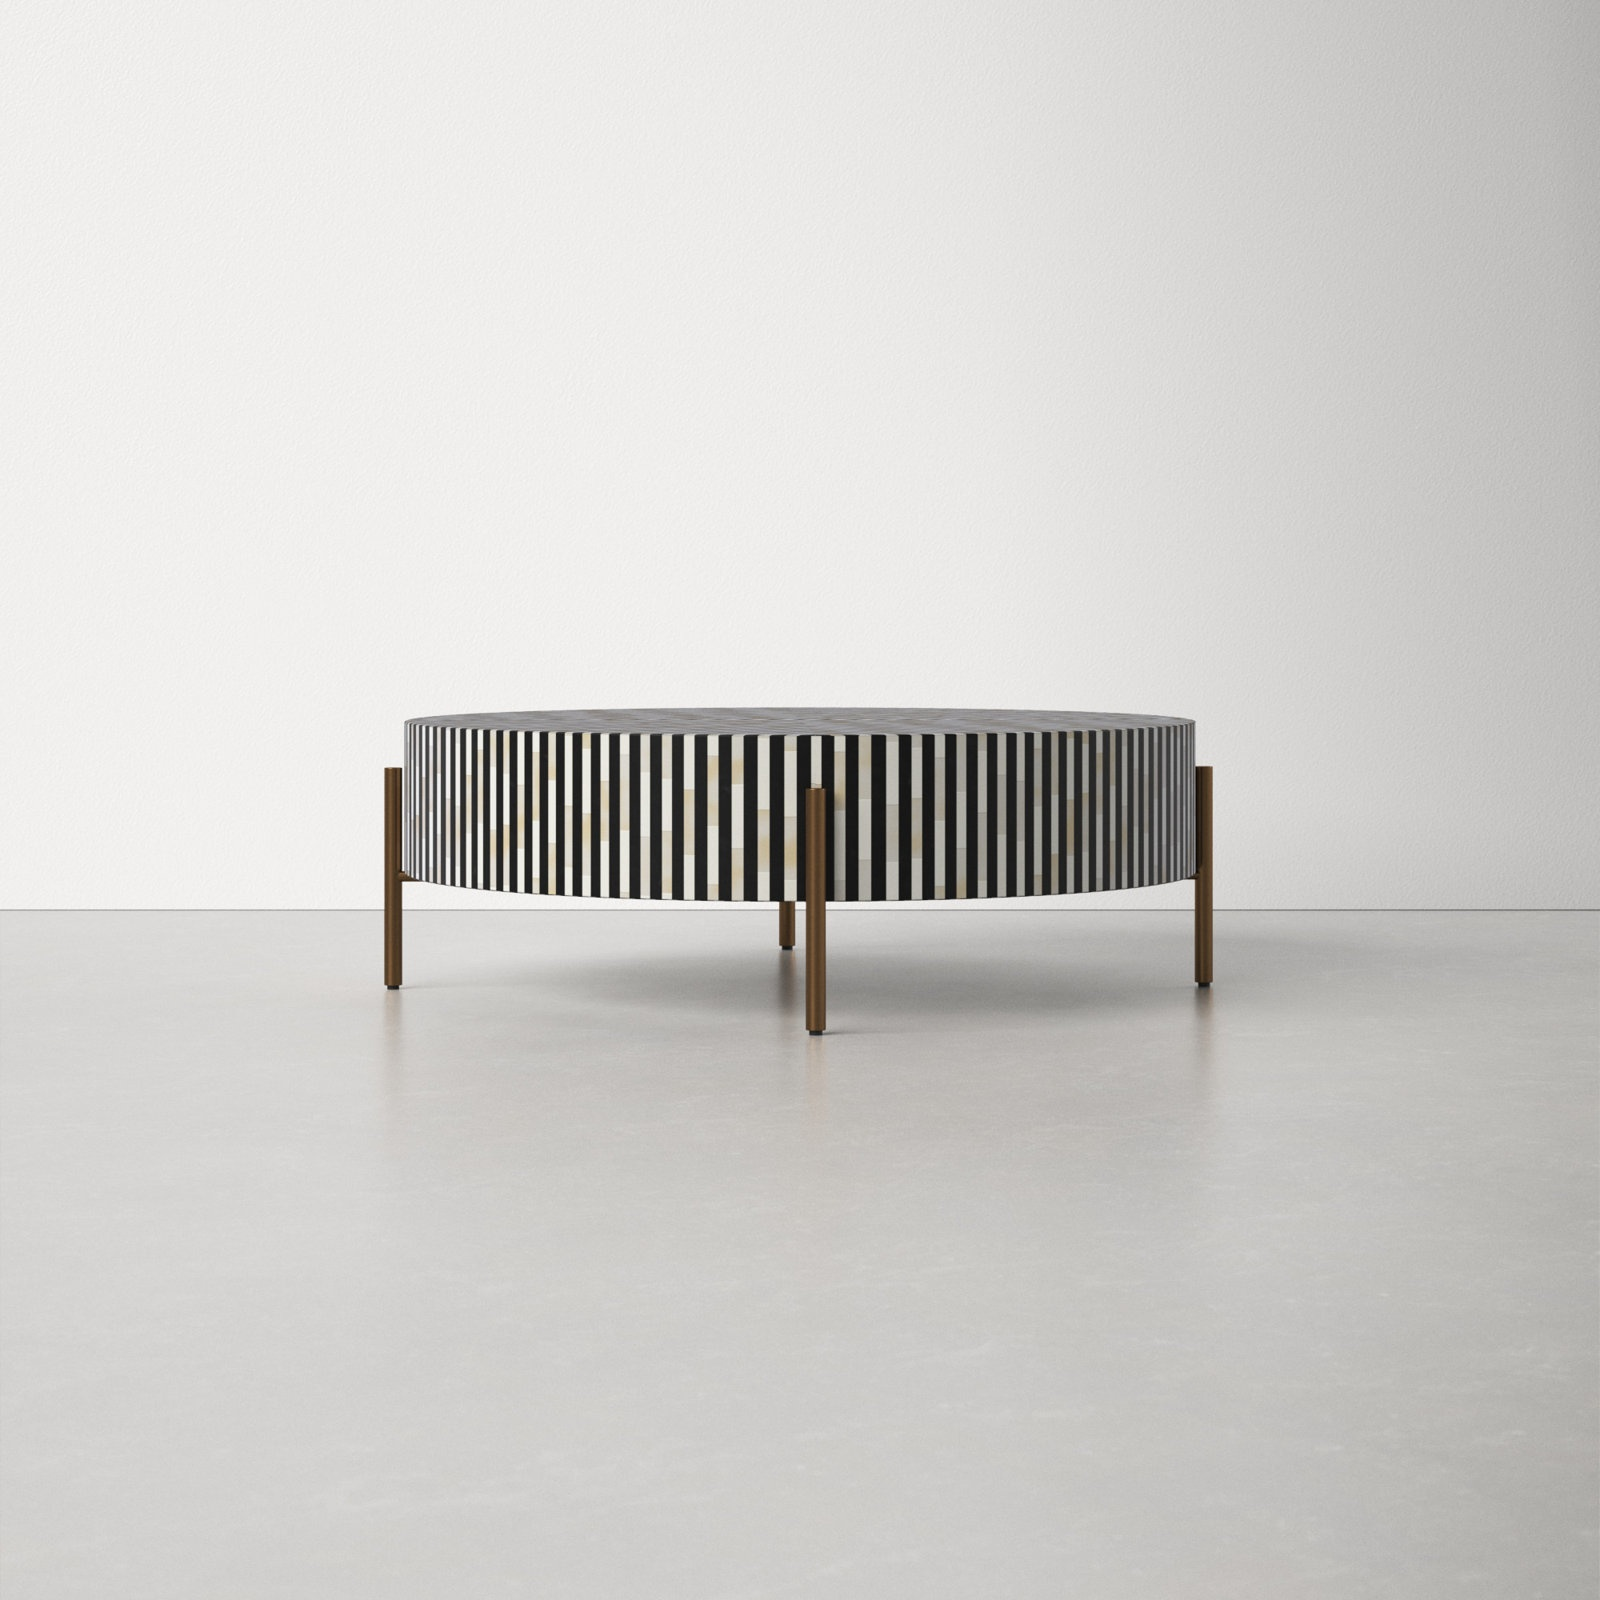obstacle: (385, 708, 1212, 1033)
